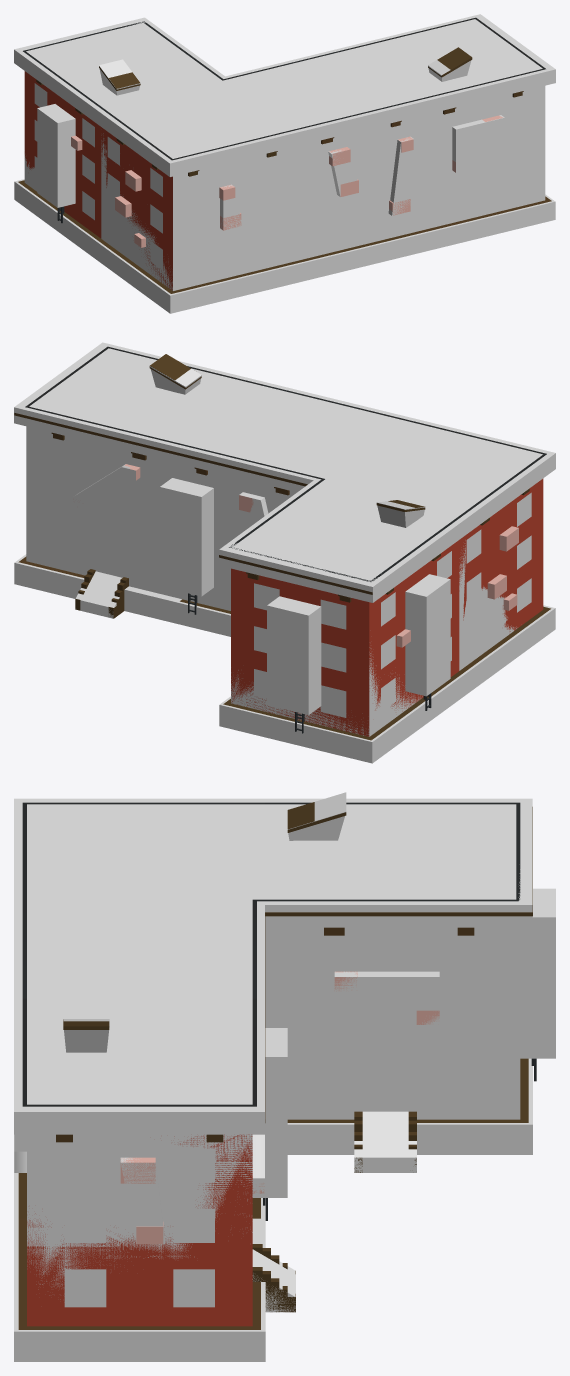
File: Building_B2_Home11_1_01.FBX
3 renders of one model, top to bottom at view 1: azimuth 30°, elevation 25°; view 2: azimuth 150°, elevation 25°; view 3: azimuth 270°, elevation 25°, orthographic. The views are drawn at different scales.
Visible parts, largest first — view 1: Building_B2_Home11_Damage_1_01, Building_B2_Home11_Live_1_01; view 2: Building_B2_Home11_Damage_1_01, Building_B2_Home11_Live_1_01; view 3: Building_B2_Home11_Damage_1_01, Building_B2_Home11_Live_1_01.
Part boxes in pixels (<box>): Building_B2_Home11_Damage_1_01: <box>14,14,555,313</box>; Building_B2_Home11_Live_1_01: <box>18,17,551,293</box>; Building_B2_Home11_Damage_1_01: <box>14,342,555,763</box>; Building_B2_Home11_Live_1_01: <box>14,346,550,740</box>; Building_B2_Home11_Damage_1_01: <box>14,792,555,1361</box>; Building_B2_Home11_Live_1_01: <box>18,802,536,1329</box>.
Bounding box in the file's own units: 23.72 × 9.61 × 16.85.
